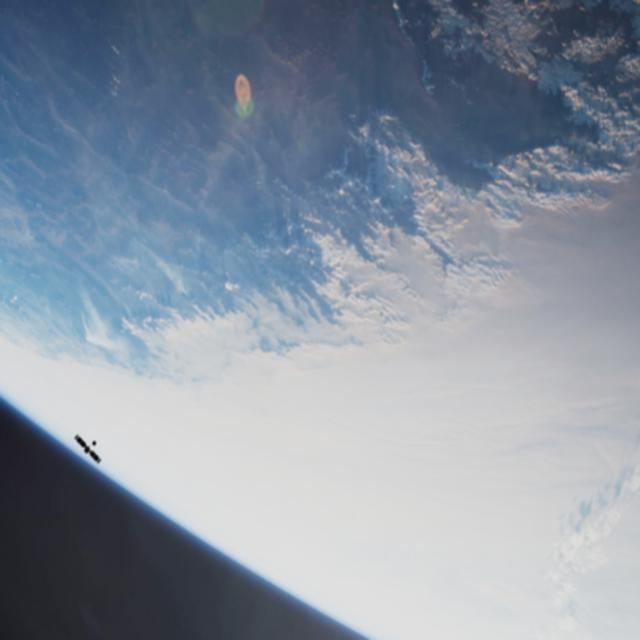satellite: (69, 430, 110, 478)
